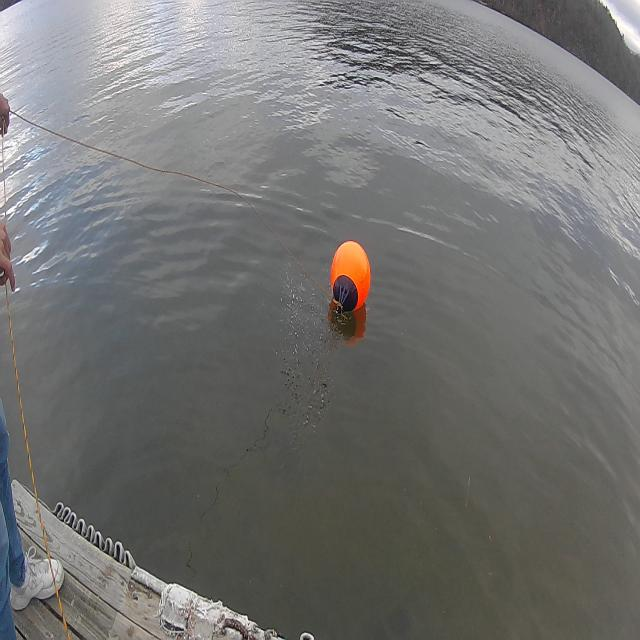Buoy: (328, 237, 373, 326)
